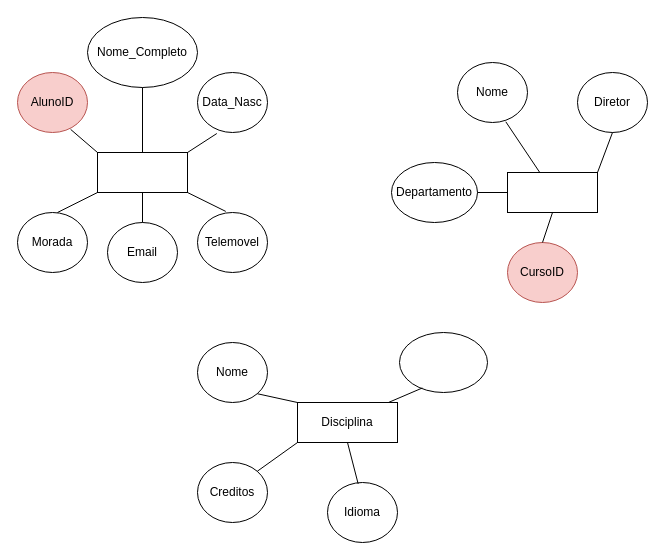
Image size: 665x560. Some labels were removed from this diagram. Each missing label, with the centre of its shape:
Aluno: point (142, 172)
Curso: point (552, 192)
DisciplinaID: point (443, 362)
